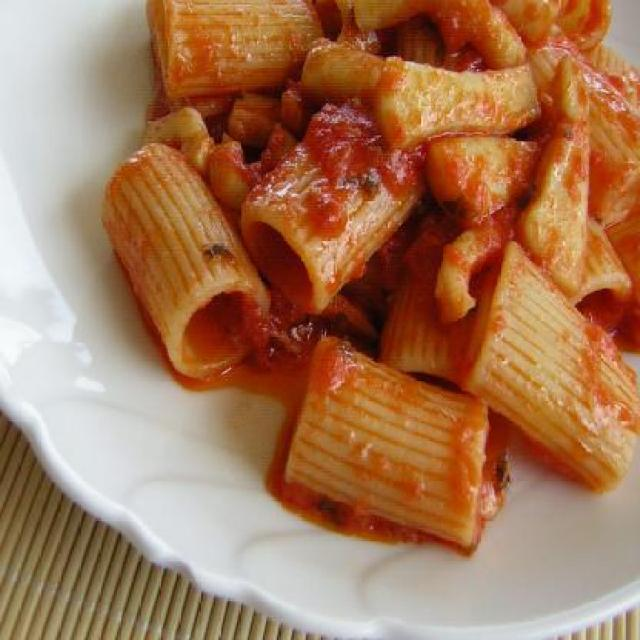Pasta al ragu: (107, 2, 636, 547)
